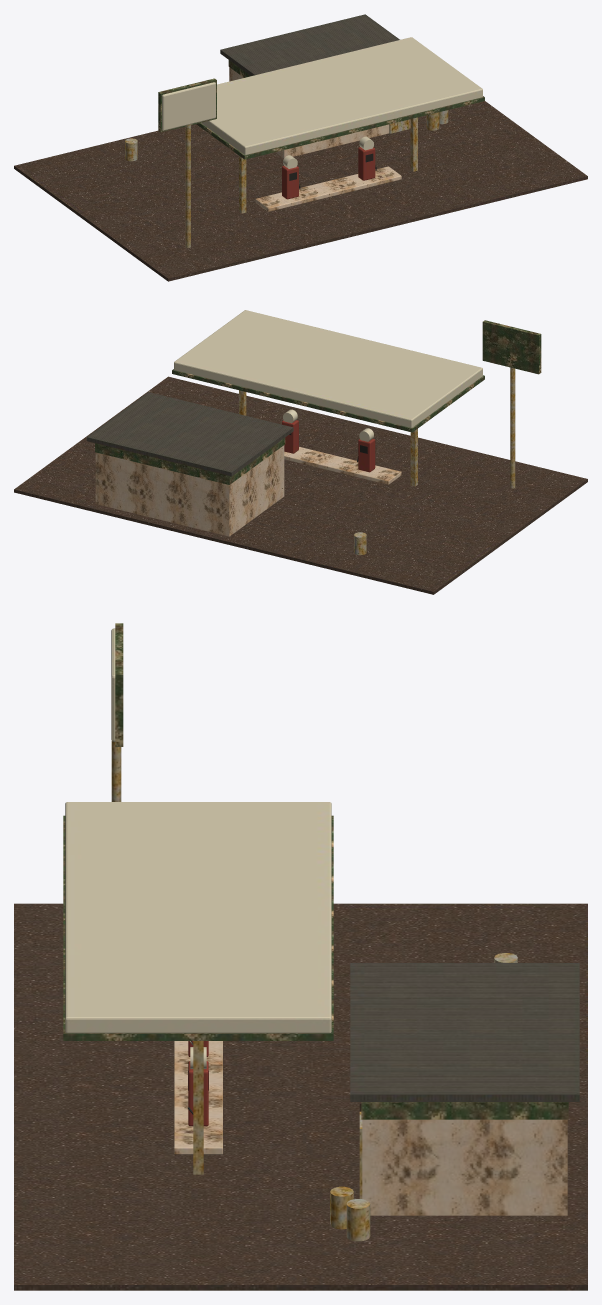
Rendered from gas_station.glb.
The picture shows the model from 3 angles, top to bottom: view 1: azimuth 30°, elevation 25°; view 2: azimuth 150°, elevation 25°; view 3: azimuth 270°, elevation 25°; orthographic projection. The views are drawn at different scales.
Visible parts, largest first — view 1: gas_station; view 2: gas_station; view 3: gas_station.
Boxes of the visible parts, bbox=[...] form: gas_station: bbox=[14, 14, 587, 281]; gas_station: bbox=[14, 310, 587, 594]; gas_station: bbox=[14, 623, 587, 1290].
Bounding box in the file's own units: 22 × 8.18 × 14.
Materials: 1 (1 with a texture image).
